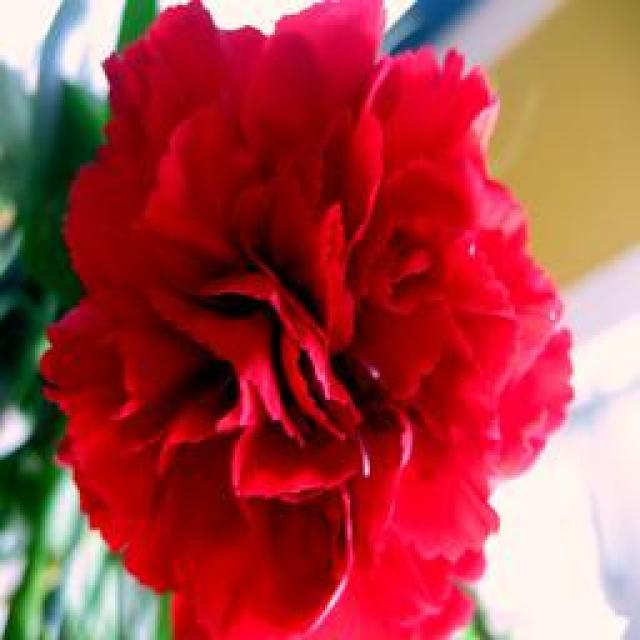carnation: (31, 0, 572, 636)
